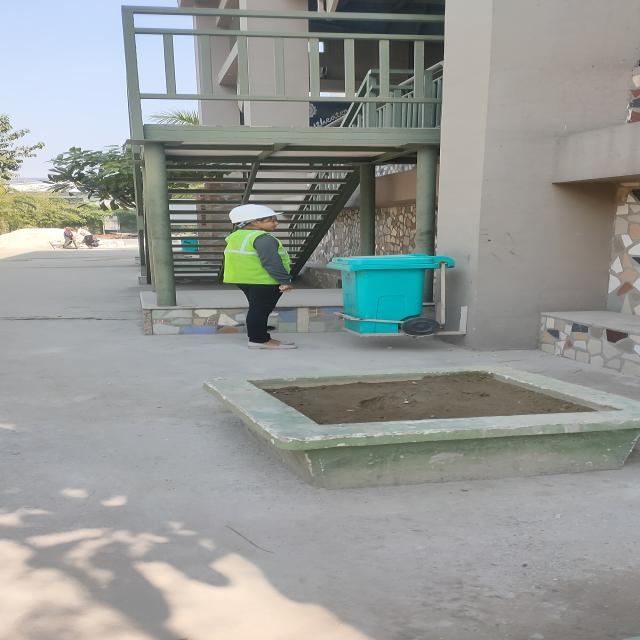safe: (223, 204, 293, 350)
unsafe: (74, 227, 93, 250), (64, 227, 72, 245), (93, 238, 99, 248)
